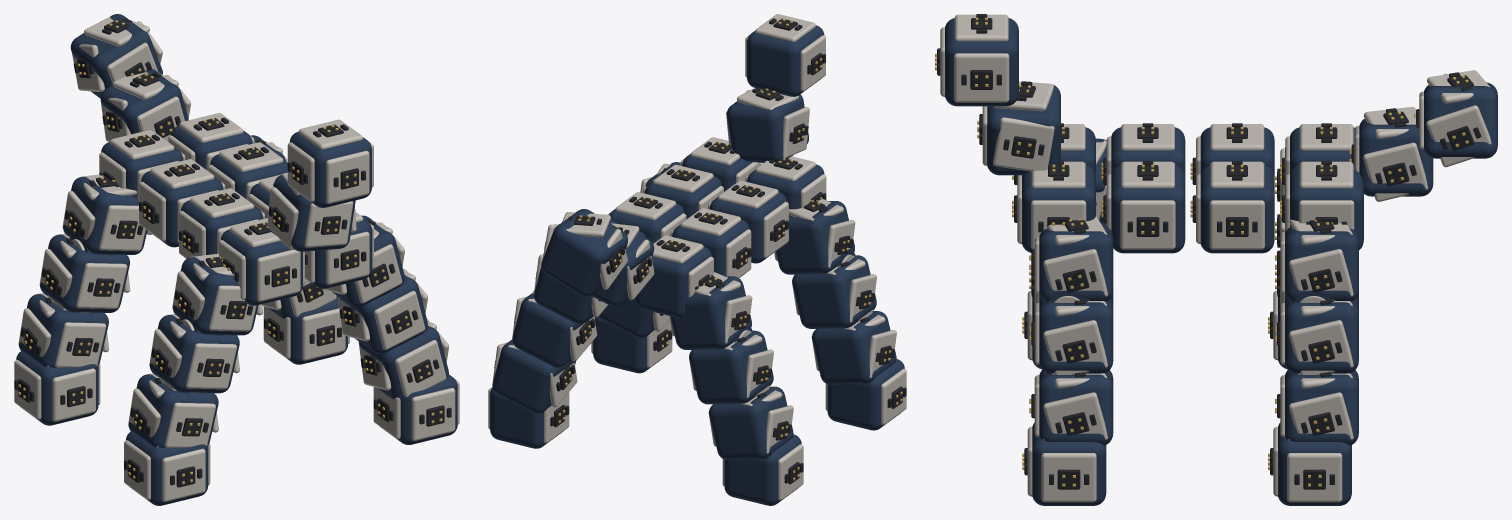
Rendered from robots-57.glb.
3 views of the same model, side by side, from view 1: azimuth 30°, elevation 25°; view 2: azimuth 150°, elevation 25°; view 3: azimuth 270°, elevation 25° (orthographic). The views are drawn at different scales.
Parts seen in each view (by area): view 1: faces, legs, contacts, torso, feet, latches, tail, head, neck, joints; view 2: legs, faces, torso, feet, contacts, tail, head, neck, latches; view 3: faces, legs, torso, contacts, tail, latches, feet, head, neck, joints.
Part boxes in pixels (left/top/right/bottom): faces: left=14, top=16, right=459, bottom=501; legs: left=19, top=135, right=448, bottom=447; contacts: left=18, top=20, right=444, bottom=487; torso: left=101, top=126, right=372, bottom=305; feet: left=16, top=297, right=457, bottom=505; latches: left=14, top=18, right=451, bottom=485; tail: left=70, top=14, right=188, bottom=134; head: left=289, top=131, right=371, bottom=207; neck: left=269, top=175, right=355, bottom=251; joints: left=51, top=234, right=422, bottom=393; legs: left=492, top=162, right=896, bottom=460; faces: left=488, top=14, right=906, bottom=500; torso: left=589, top=154, right=824, bottom=317; feet: left=490, top=317, right=904, bottom=505; contacts: left=554, top=18, right=902, bottom=484; tail: left=541, top=209, right=654, bottom=306; head: left=747, top=25, right=824, bottom=96; neck: left=727, top=94, right=808, bottom=162; latches: left=494, top=18, right=906, bottom=483; faces: left=940, top=14, right=1491, bottom=502; legs: left=1039, top=138, right=1358, bottom=445; torso: left=1022, top=127, right=1363, bottom=253; contacts: left=935, top=17, right=1474, bottom=489; tail: left=1359, top=82, right=1497, bottom=196; latches: left=937, top=14, right=1481, bottom=484; feet: left=1032, top=297, right=1351, bottom=505; head: left=945, top=18, right=1018, bottom=106; neck: left=987, top=85, right=1060, bottom=175; joints: left=1046, top=290, right=1333, bottom=374.
Bounding box in the file's own units: 1.68 × 1.81 × 2.27.
